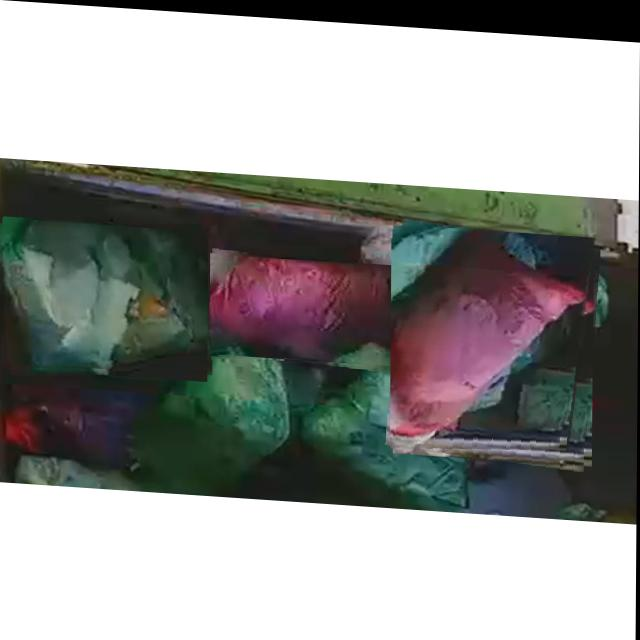general_trashbag: (2, 221, 208, 370)
other_trashbag: (392, 223, 590, 443), (214, 254, 398, 358)
